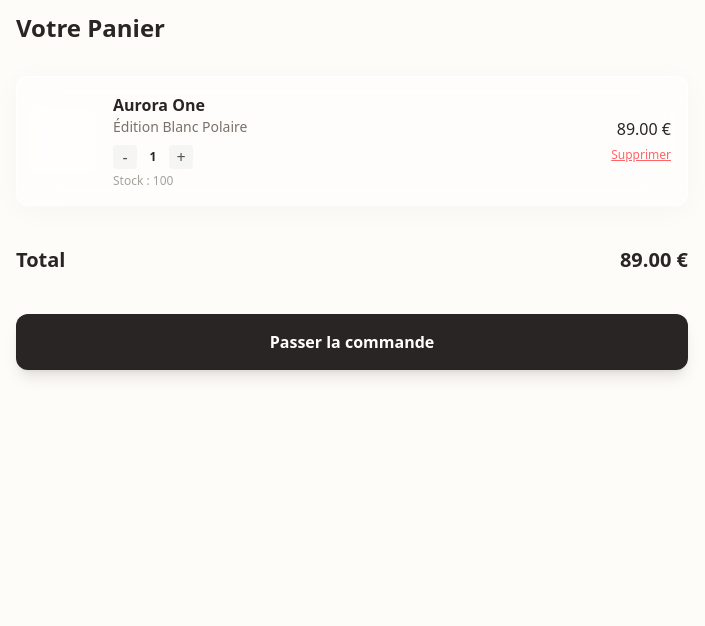
Test case: pages/cart.vue › checkout / address step › shows form fields for personal info
This screenshot has width=705, height=626.
Click the button "Passer la commande" at (352, 342), box x1=16 y1=314 x2=688 y2=370
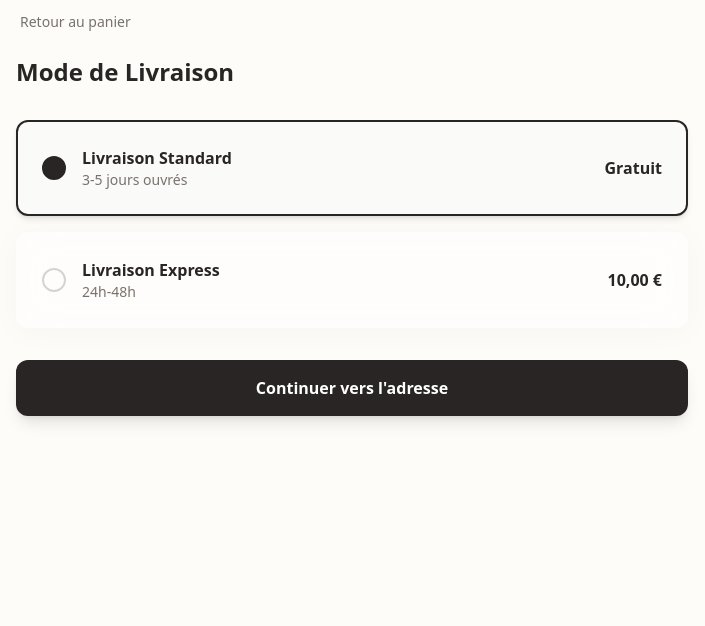
Click the button "Continuer vers l'adresse" at (352, 388), box x1=16 y1=360 x2=688 y2=416
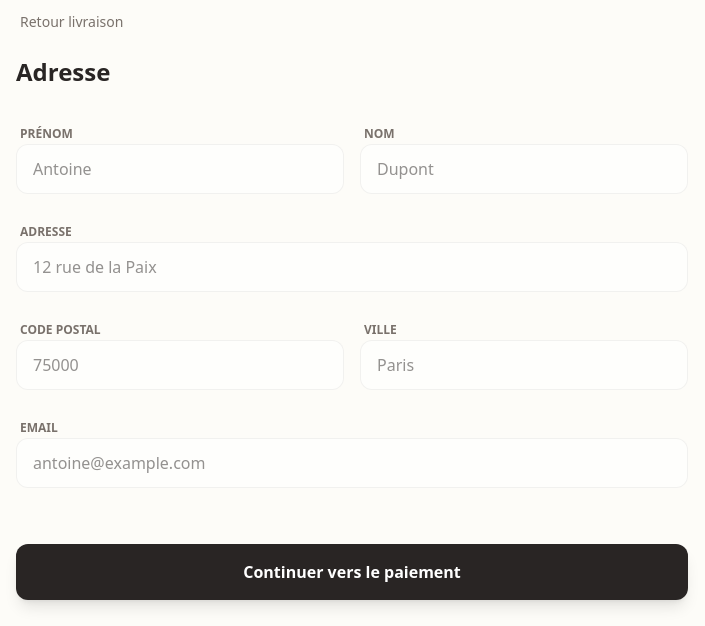
Expected: the field with placeholder "Antoine" is shown, x1=16 y1=144 x2=344 y2=194
Expected: the field with placeholder "Dupont" is shown, x1=360 y1=144 x2=688 y2=194
